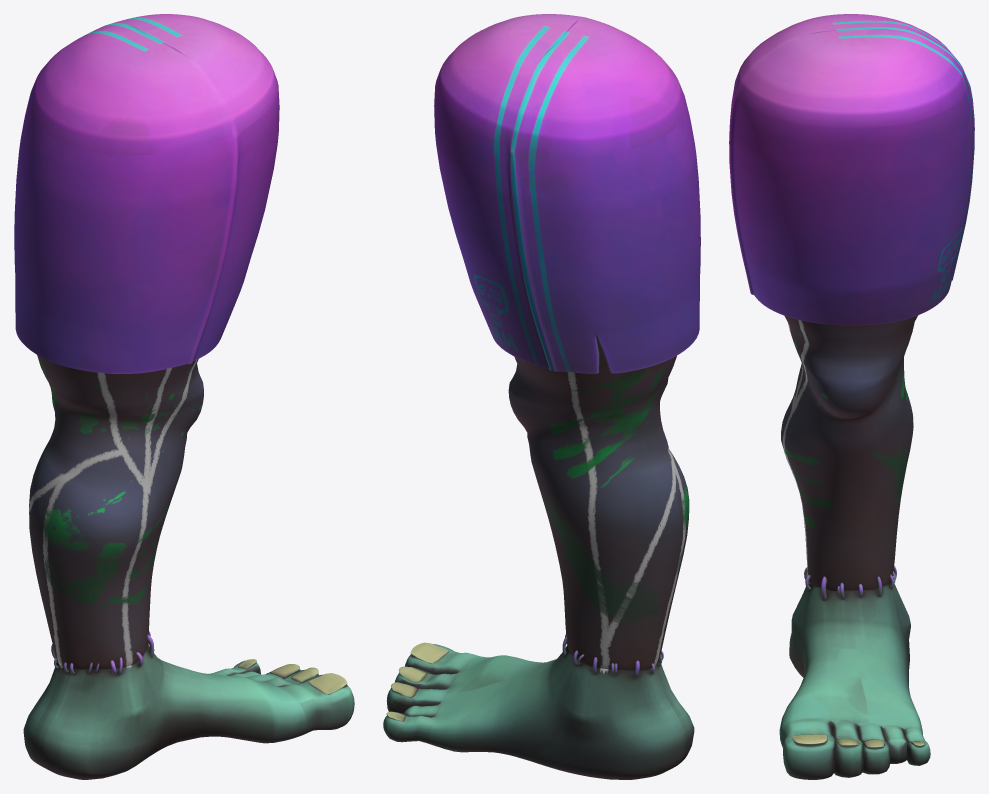
The model's file is Leg_3_complete (1).fbx.
3 renders of one model, left to right at view 1: azimuth 30°, elevation 25°; view 2: azimuth 150°, elevation 25°; view 3: azimuth 270°, elevation 25°, orthographic. The views are drawn at different scales.
Visible parts, largest first — view 1: Leg_3; view 2: Leg_3; view 3: Leg_3.
Boxes of the visible parts, box(x1,y1,x2,y2) form: Leg_3: box(14, 14, 354, 779); Leg_3: box(383, 14, 700, 779); Leg_3: box(729, 14, 974, 779).
Size of the model in its own units: 270 by 619 by 202.
